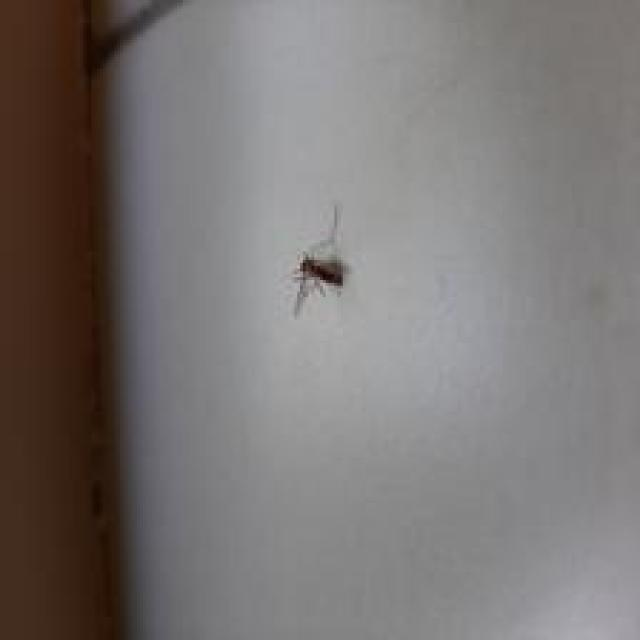Culex: (288, 203, 348, 317)
